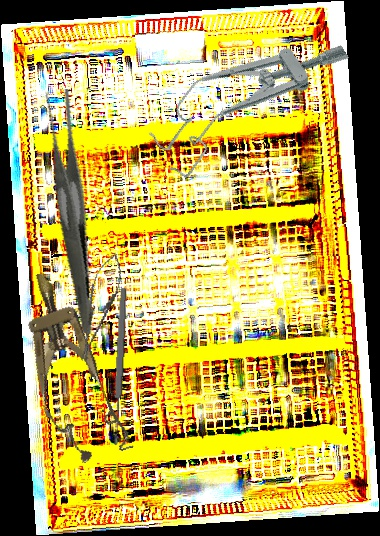Dressing Forceps: (1, 85, 137, 335)
Needle Holder: (69, 249, 129, 365)
Speculum: (137, 5, 358, 184), (3, 262, 136, 470)
Surgical Spoon: (110, 286, 129, 447)
